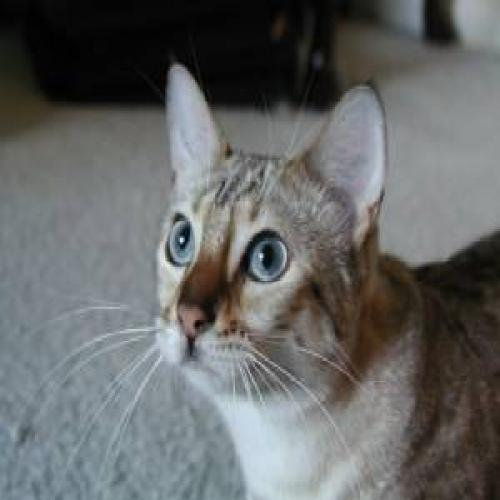bengal: (147, 48, 403, 401)
